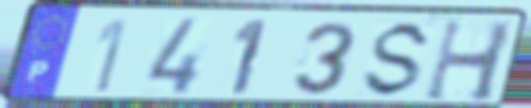1: (229, 17, 271, 99), (93, 16, 131, 96)
3: (288, 20, 358, 98)
4: (143, 16, 205, 98)
H: (420, 17, 518, 105)
S: (358, 19, 437, 101)
